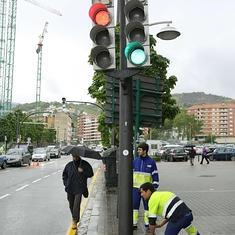Cartel: (106, 71, 165, 129)
Persona: (137, 183, 202, 234), (61, 147, 94, 234), (134, 142, 155, 232)
Poste: (117, 72, 134, 234)
Semaforo: (124, 1, 152, 67), (92, 1, 116, 71)
